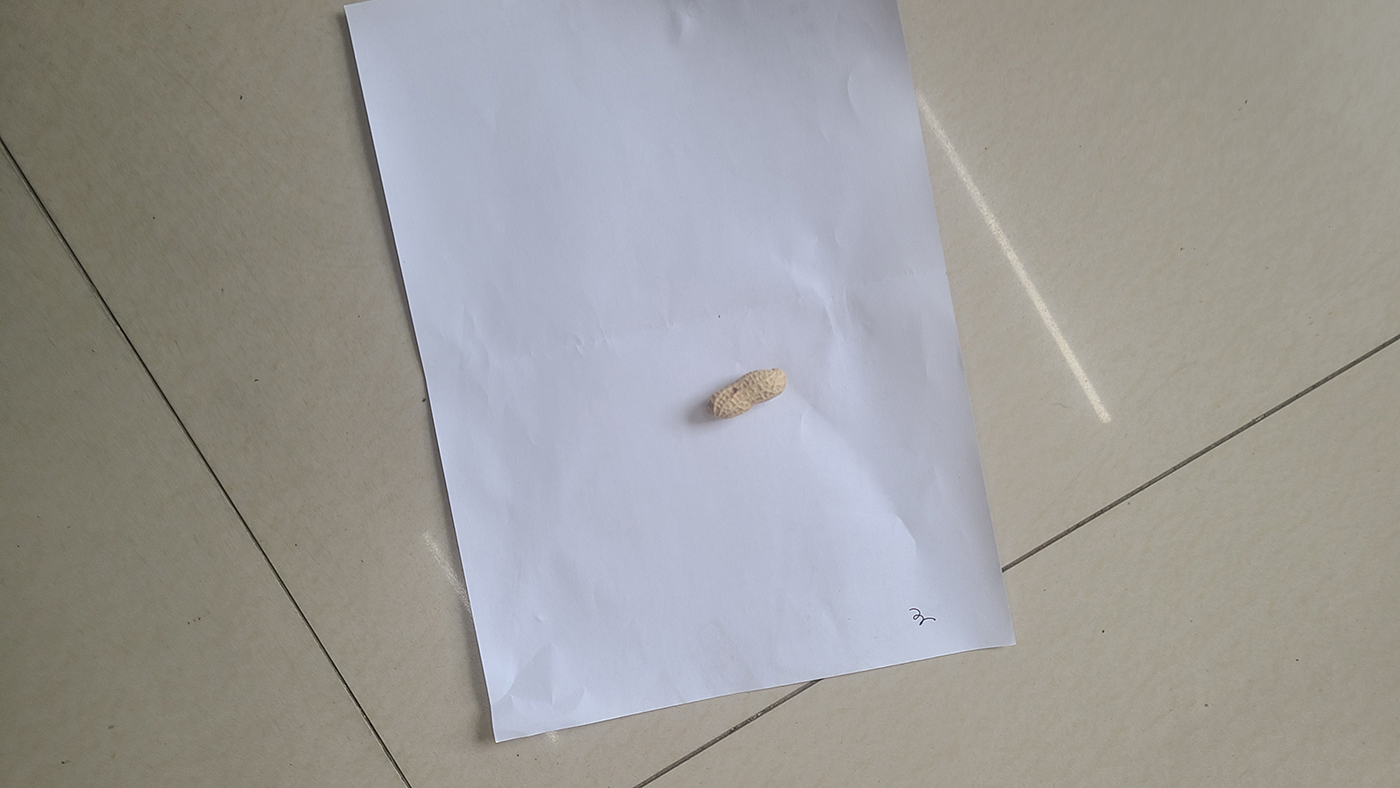h: (707, 367, 785, 421)
